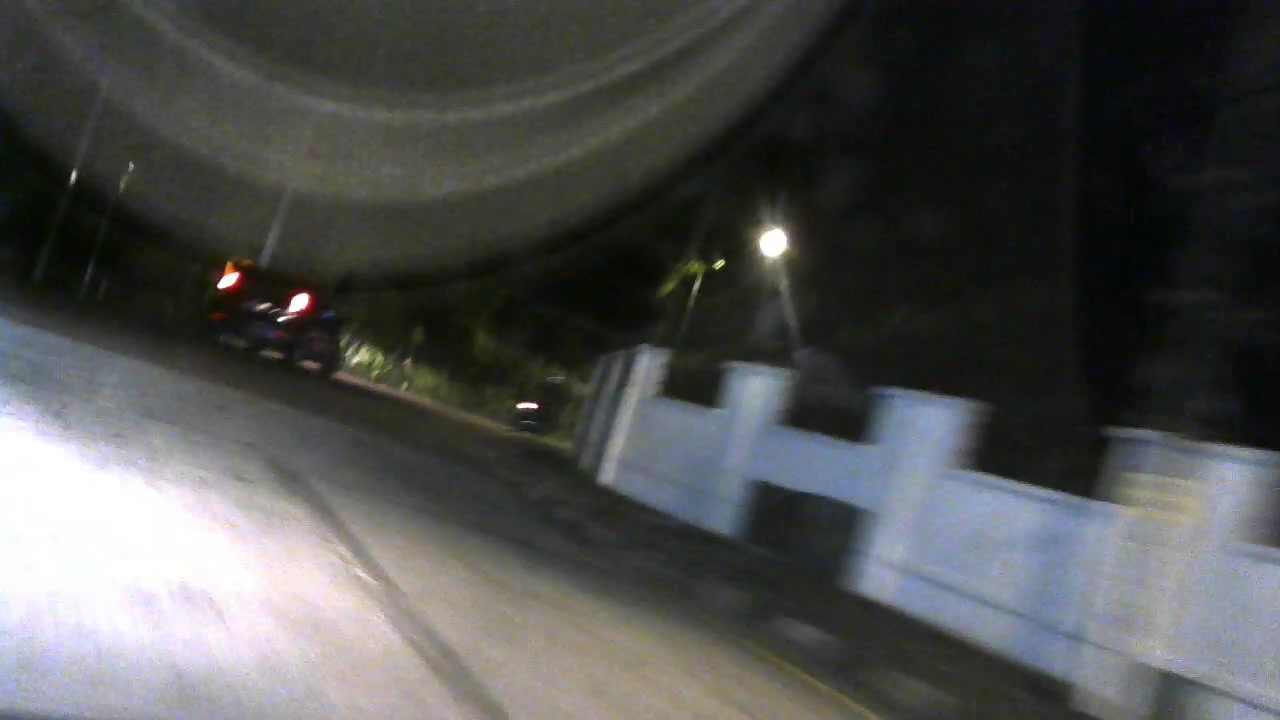Car: (204, 257, 360, 383)
